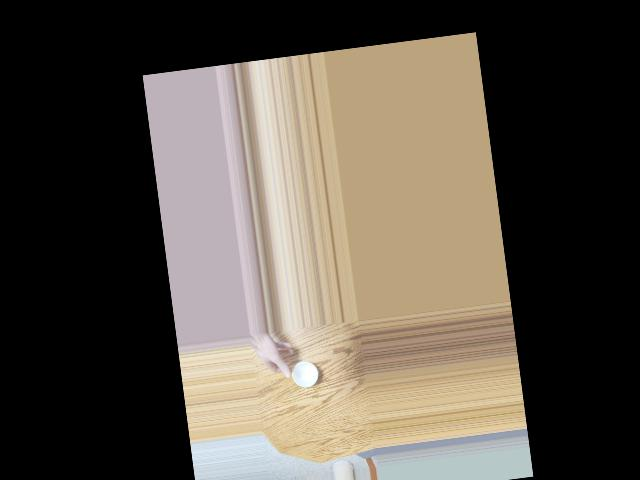cotage: (282, 354, 323, 395)
